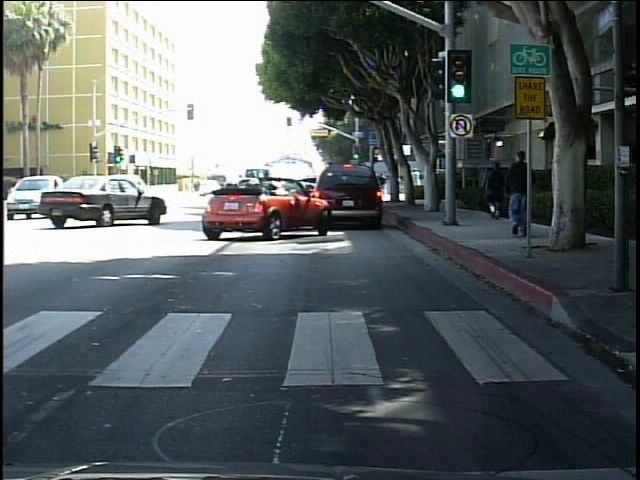person: (490, 134, 547, 253), (486, 157, 509, 222), (409, 165, 425, 199)
